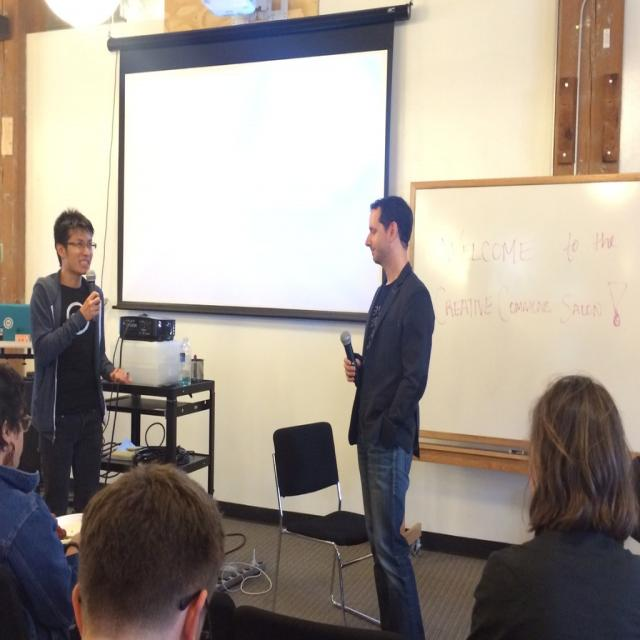chair: (271, 422, 377, 622), (209, 594, 409, 639)
desk: (80, 333, 230, 517)
person: (465, 374, 640, 638), (341, 194, 436, 638), (29, 208, 132, 517), (72, 463, 225, 640), (0, 363, 76, 639)
tv: (112, 11, 397, 332)
